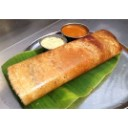dosa: (3, 28, 123, 105)
